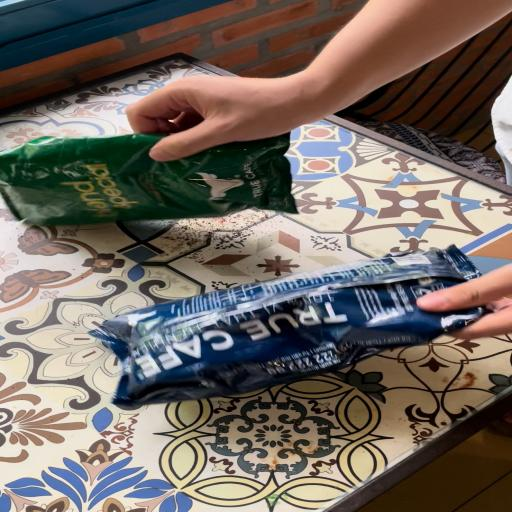cafe_hat: (90, 245, 483, 406)
cafe_xay: (0, 134, 295, 226)
